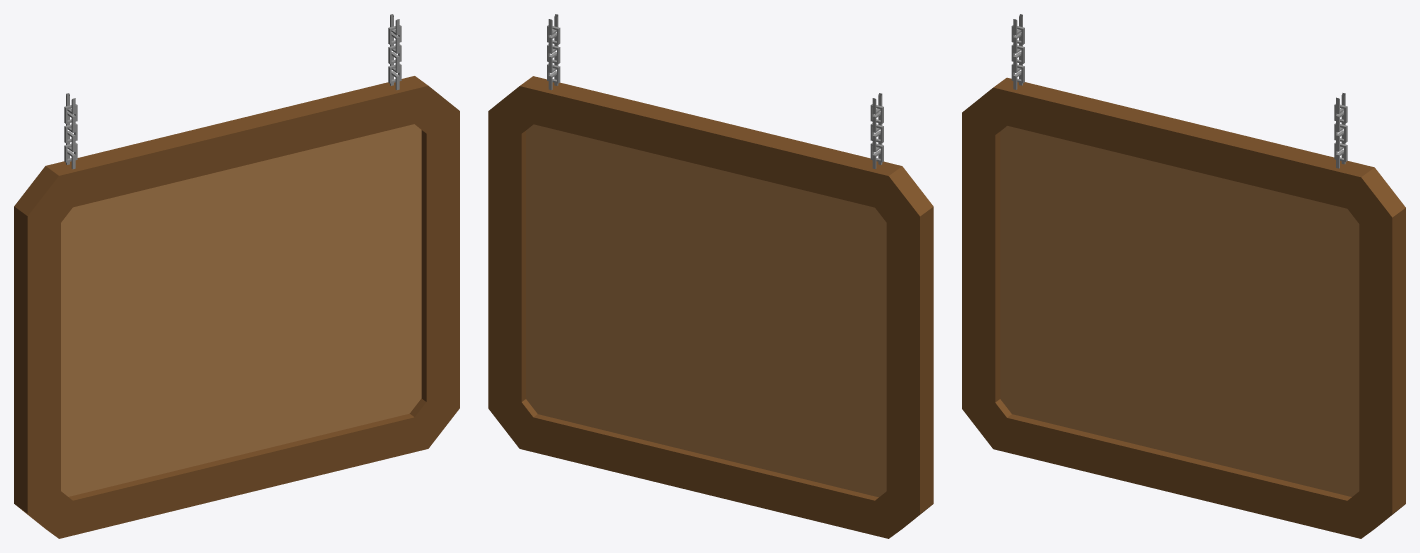
Rendered from wood-sing.glb.
The picture shows the model from 3 angles, left to right: view 1: azimuth 30°, elevation 25°; view 2: azimuth 150°, elevation 25°; view 3: azimuth 330°, elevation 25°; orthographic projection.
Parts seen in each view (by area): view 1: Sign10; view 2: Sign10; view 3: Sign10.
Part boxes in pixels (box(x1,y1,x2,y2)): Sign10: box(14, 14, 459, 538); Sign10: box(488, 14, 933, 538); Sign10: box(962, 14, 1405, 538).
Bounding box in the file's own units: 0.8778 × 0.8421 × 0.048.
